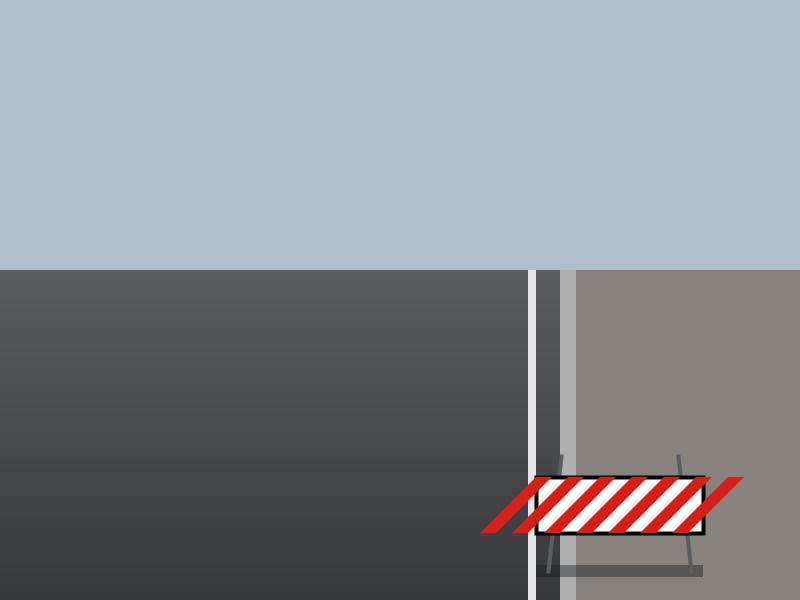ROAD_OBSTACLE: (536, 446, 703, 571)
